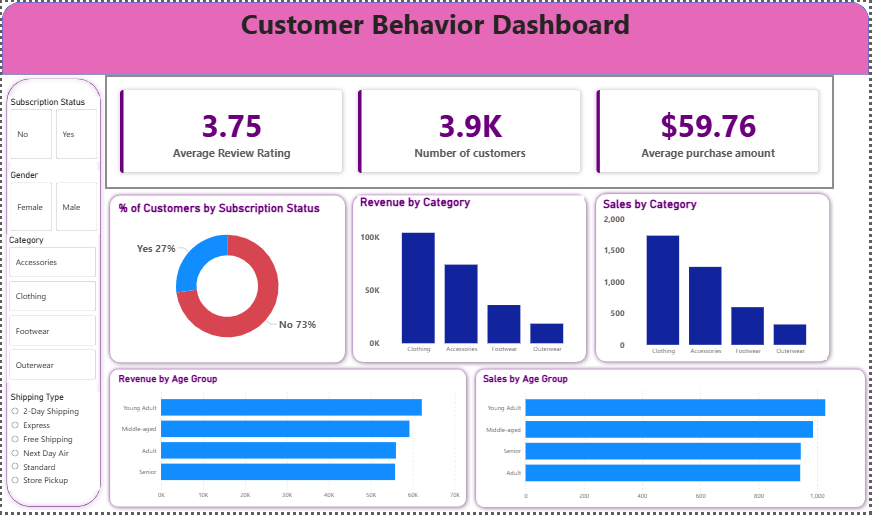

What the dashboard file says about the page in this screenshot:
{"tool":"powerbi","page":{"name":"Page 1","canvas":[1700,1000],"ordinal":0},"visuals":[{"type":"cardVisual","fields":{"Data":["public customer.Average Review Rating","public customer.Number of customers","public customer.Average purchase amount"]},"box":[202.8,144.4,1427.8,219.4],"z":0},{"type":"shape","box":[0,0,1700,142.4],"z":1000},{"type":"textbox","box":[0,0,1700,114.6],"z":2000},{"type":"shape","box":[202.4,371.4,478.6,345.2],"z":3000},{"type":"donutChart","title":"% of Customers by Subscription Status","fields":{"Category":["public customer.subscription_status"],"Y":["CountNonNull(public customer.customer_id)"]},"box":[223.8,390.5,435.7,304.8],"z":4000},{"type":"shape","box":[680.6,369.4,475,344.4],"z":5000},{"type":"shape","box":[1156.1,368.3,475.6,346.3],"z":6000},{"type":"clusteredColumnChart","title":"Revenue by Category","fields":{"Y":["Sum(public customer.purchase_amount)"],"Category":["public customer.category"]},"box":[697.2,380.6,444.4,319.4],"z":7000},{"type":"clusteredColumnChart","title":"Sales by Category","fields":{"Y":["CountNonNull(public customer.purchase_amount)"],"Category":["public customer.category"]},"box":[1173.2,382.9,443.9,319.5],"z":8000},{"type":"shape","box":[0,142.5,202.5,857.5],"z":9000},{"type":"advancedSlicerVisual","fields":{"Values":["public customer.subscription_status"]},"box":[12.5,185,180,127.5],"z":10000},{"type":"advancedSlicerVisual","fields":{"Values":["public customer.gender"]},"box":[12.5,330,180,125],"z":11000},{"type":"advancedSlicerVisual","title":"Category","fields":{"Values":["public customer.category"]},"box":[10,455,180,290],"z":12000},{"type":"listSlicer","title":"Shipping Type","fields":{"Values":["public customer.shipping_type"]},"box":[12.5,765,180,192.5],"z":13000},{"type":"shape","box":[202.6,710.5,715.8,286.8],"z":15000},{"type":"shape","box":[919.5,712.2,780.5,287.8],"z":16000},{"type":"clusteredBarChart","title":"Sales by Age Group","fields":{"Y":["CountNonNull(public customer.customer_id)"],"Category":["public customer.age_group"]},"box":[936.8,726.3,736.8,260.5],"z":16001},{"type":"clusteredBarChart","title":"Revenue by Age Group","fields":{"Y":["Sum(public customer.purchase_amount)"],"Category":["public customer.age_group"]},"box":[223.7,726.3,678.9,257.9],"z":16002}]}

Visuals, with their boxes in screenshot pixels (x1, y1, x2, y2), scaled from the page's 1700x1000 canvas onto the 873x516 screenshot:
cardVisual - public customer.Average Review Rating x public customer.Number of customers: left=104, top=75, right=837, bottom=188
shape: left=0, top=0, right=872, bottom=73
textbox: left=0, top=0, right=872, bottom=59
shape: left=104, top=192, right=350, bottom=370
"% of Customers by Subscription Status" donutChart: left=115, top=201, right=339, bottom=359
shape: left=350, top=191, right=593, bottom=368
shape: left=594, top=190, right=838, bottom=369
"Revenue by Category" clusteredColumnChart: left=358, top=196, right=586, bottom=361
"Sales by Category" clusteredColumnChart: left=602, top=198, right=830, bottom=362
shape: left=0, top=74, right=104, bottom=515
advancedSlicerVisual - public customer.subscription_status: left=6, top=95, right=99, bottom=161
advancedSlicerVisual - public customer.gender: left=6, top=170, right=99, bottom=235
"Category" advancedSlicerVisual: left=5, top=235, right=98, bottom=384
"Shipping Type" listSlicer: left=6, top=395, right=99, bottom=494
shape: left=104, top=367, right=472, bottom=515
shape: left=472, top=367, right=872, bottom=515
"Sales by Age Group" clusteredBarChart: left=481, top=375, right=859, bottom=509
"Revenue by Age Group" clusteredBarChart: left=115, top=375, right=464, bottom=508
